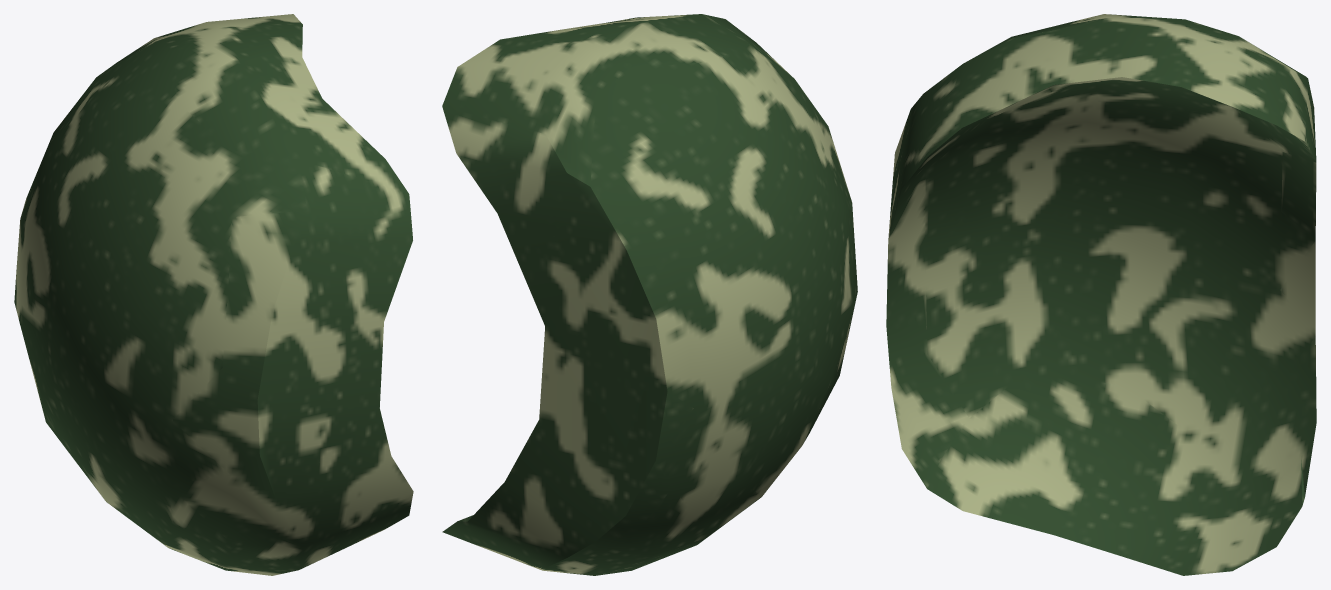
File: link_body_08.obj
3 renders of one model, left to right at view 1: azimuth 30°, elevation 25°; view 2: azimuth 150°, elevation 25°; view 3: azimuth 270°, elevation 25°, orthographic. The views are drawn at different scales.
Parts seen in each view (by area): view 1: link_body_08; view 2: link_body_08; view 3: link_body_08.
Part boxes in pixels (box(x1,y1,x2,y2)): link_body_08: box(14, 14, 413, 575); link_body_08: box(442, 14, 857, 575); link_body_08: box(886, 14, 1316, 575).
Bounding box in the file's own units: 11.65 × 19.53 × 14.63.
